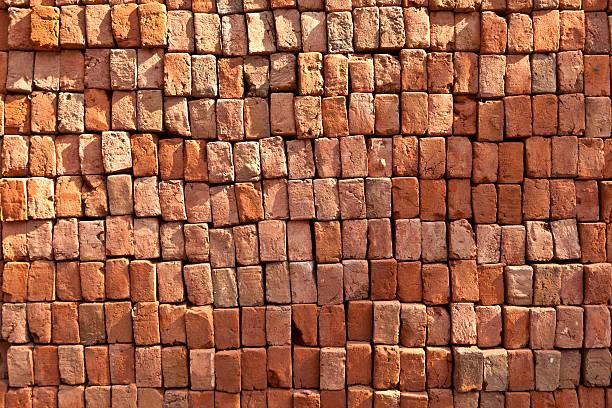brick: (246, 11, 276, 54), (111, 3, 140, 46), (138, 3, 166, 47), (102, 131, 132, 172), (294, 96, 323, 138), (449, 260, 478, 302), (259, 136, 287, 178), (132, 303, 160, 345), (0, 178, 27, 221), (164, 53, 191, 96), (235, 182, 264, 222), (551, 219, 580, 259), (1, 135, 29, 176), (258, 220, 286, 261), (86, 5, 114, 46), (31, 6, 59, 47), (52, 302, 80, 343), (505, 95, 532, 137), (341, 135, 368, 177), (392, 177, 419, 219), (274, 9, 301, 51), (167, 11, 194, 53), (319, 305, 346, 347), (584, 12, 611, 54), (449, 219, 477, 259), (27, 261, 55, 301), (184, 265, 212, 305), (188, 98, 215, 139), (131, 134, 158, 175), (207, 142, 234, 183), (28, 178, 55, 219), (211, 185, 238, 226), (315, 221, 342, 262), (290, 262, 317, 303), (532, 10, 559, 51), (556, 307, 583, 348), (286, 140, 315, 178), (402, 92, 428, 134), (106, 216, 134, 255), (53, 218, 79, 260), (6, 51, 34, 90), (56, 176, 83, 216), (134, 176, 161, 216), (523, 178, 550, 218), (288, 179, 315, 219), (339, 179, 366, 219), (159, 180, 186, 220), (401, 304, 426, 347), (375, 346, 400, 389), (84, 89, 110, 130), (559, 94, 585, 135), (244, 98, 270, 139), (217, 99, 243, 140), (392, 135, 418, 176), (82, 175, 108, 216), (314, 179, 340, 220), (404, 7, 430, 48), (423, 263, 449, 304), (327, 12, 353, 53), (374, 303, 400, 344), (451, 303, 477, 344), (476, 306, 502, 347), (195, 13, 221, 54), (479, 55, 505, 96), (186, 310, 214, 348), (370, 260, 397, 299), (585, 265, 612, 304), (7, 347, 34, 386), (420, 137, 445, 179), (353, 7, 378, 49), (585, 306, 610, 348), (241, 348, 266, 390), (401, 49, 426, 91), (558, 51, 583, 93), (58, 92, 84, 132), (322, 97, 348, 137), (30, 136, 56, 176), (263, 179, 289, 219), (134, 219, 160, 259), (233, 225, 259, 265), (343, 260, 369, 300), (478, 265, 504, 305), (238, 266, 264, 306), (79, 304, 105, 344), (162, 347, 188, 387), (400, 351, 426, 391), (218, 58, 244, 98), (578, 138, 605, 176), (31, 91, 56, 132), (349, 93, 374, 134), (428, 94, 453, 135), (498, 142, 523, 183), (396, 219, 421, 260), (2, 222, 27, 263), (379, 7, 404, 48), (130, 261, 155, 302), (158, 261, 183, 302), (266, 262, 291, 303), (481, 12, 506, 53), (267, 346, 292, 387), (427, 52, 452, 93), (585, 55, 610, 96), (192, 55, 217, 96), (244, 56, 269, 97), (234, 142, 260, 181), (185, 183, 211, 222), (59, 5, 85, 44), (79, 221, 105, 260), (527, 221, 553, 260), (535, 266, 561, 305), (105, 303, 131, 342), (293, 348, 319, 387), (138, 49, 164, 88), (348, 53, 374, 92), (454, 52, 478, 94), (299, 53, 323, 95), (137, 90, 162, 130), (533, 94, 558, 134), (586, 97, 611, 137), (552, 136, 577, 176), (526, 136, 551, 176), (315, 138, 340, 178), (108, 175, 133, 215), (366, 178, 391, 218), (421, 180, 446, 220), (581, 223, 606, 263), (317, 264, 342, 304), (301, 12, 326, 52), (508, 13, 533, 53), (136, 347, 161, 387), (427, 347, 452, 387), (111, 49, 136, 89), (585, 349, 612, 386), (165, 98, 191, 136), (209, 229, 235, 267), (2, 264, 28, 302), (215, 354, 241, 392), (374, 54, 400, 92), (271, 93, 295, 134), (159, 138, 183, 179), (184, 140, 208, 181), (459, 351, 483, 392), (324, 55, 348, 96), (473, 142, 498, 181), (472, 184, 497, 223), (27, 221, 52, 260), (422, 222, 447, 261), (80, 262, 105, 301), (212, 268, 237, 307), (430, 12, 455, 51), (1, 304, 26, 343), (160, 305, 185, 344), (109, 344, 134, 383), (346, 346, 371, 385), (506, 55, 531, 94), (8, 7, 31, 49), (293, 304, 316, 346), (509, 352, 535, 389), (375, 94, 399, 134), (479, 101, 503, 141), (79, 134, 103, 174), (447, 137, 471, 177), (575, 181, 599, 221), (368, 218, 392, 258), (477, 224, 501, 264), (214, 309, 238, 349), (222, 15, 246, 55), (190, 350, 214, 390), (5, 96, 30, 134), (56, 262, 81, 300), (320, 351, 345, 389), (536, 352, 561, 390), (85, 49, 110, 87), (55, 135, 79, 174), (448, 180, 472, 219), (288, 222, 312, 261), (501, 226, 525, 265), (242, 307, 266, 346), (505, 309, 529, 348), (34, 346, 58, 385), (60, 50, 84, 89), (532, 54, 556, 93), (551, 180, 576, 217), (184, 224, 209, 261), (483, 353, 508, 390), (34, 53, 59, 90), (270, 53, 295, 90), (106, 258, 129, 298), (398, 261, 421, 301), (267, 306, 290, 346), (112, 91, 136, 129), (343, 220, 367, 258), (560, 11, 584, 49), (456, 12, 480, 50), (348, 302, 372, 340), (27, 304, 51, 342), (85, 347, 109, 385), (58, 347, 83, 383), (369, 138, 392, 177), (498, 185, 521, 224), (160, 223, 184, 260), (509, 268, 533, 305), (561, 264, 583, 304), (453, 97, 476, 134), (427, 307, 450, 344), (532, 311, 555, 348), (559, 350, 581, 388)
